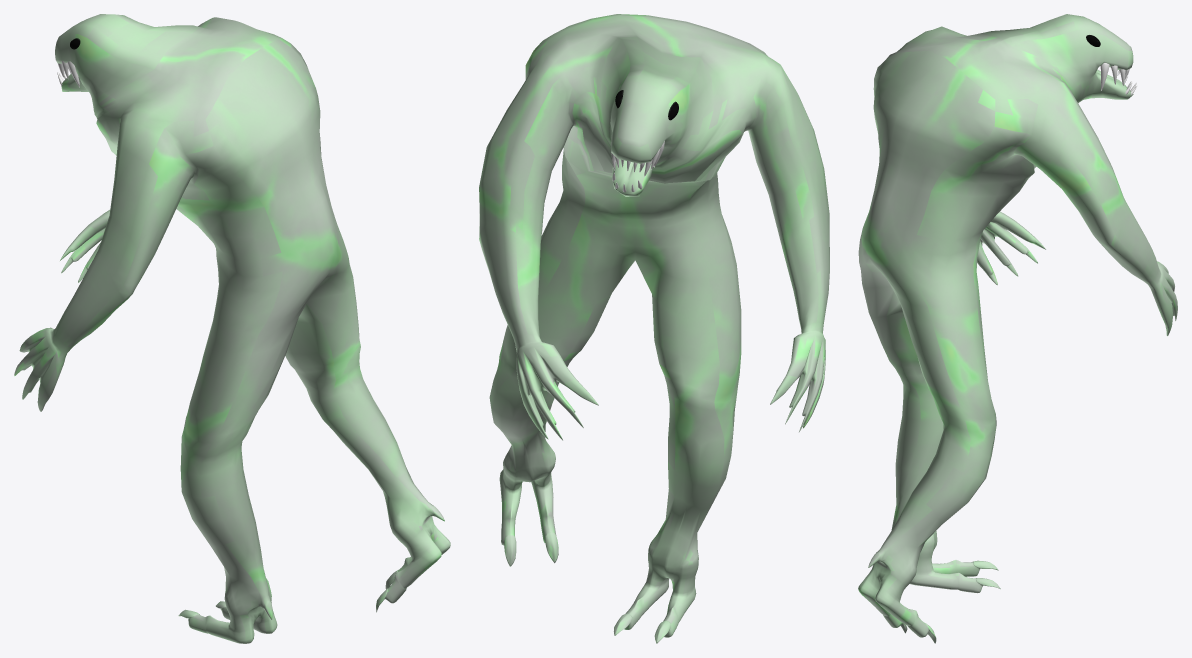
The model's file is Berserkeraranar.0053.obj.
The picture shows the model from 3 angles, left to right: view 1: azimuth 30°, elevation 25°; view 2: azimuth 150°, elevation 25°; view 3: azimuth 270°, elevation 25°; orthographic projection. The views are drawn at different scales.
Parts seen in each view (by area): view 1: polySurface27; view 2: polySurface27; view 3: polySurface27.
Part boxes in pixels (x1,y1,x2,y2): polySurface27: (14,14,450,643); polySurface27: (479,14,829,643); polySurface27: (858,14,1177,643).
Size of the model in its own units: 14.3 by 22.03 by 11.77.
Materials: 1 (1 with a texture image).
